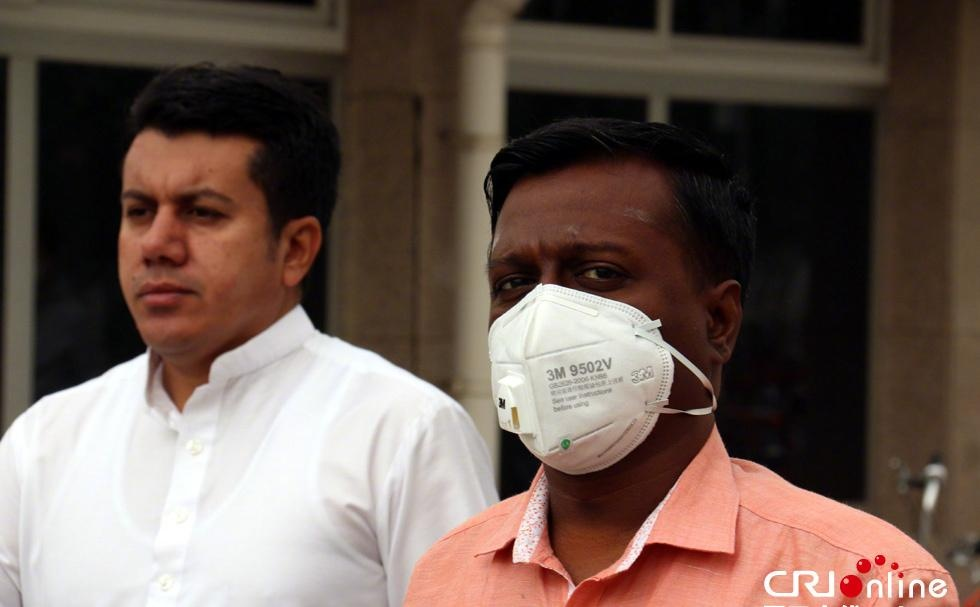Mask: (467, 229, 708, 468)
